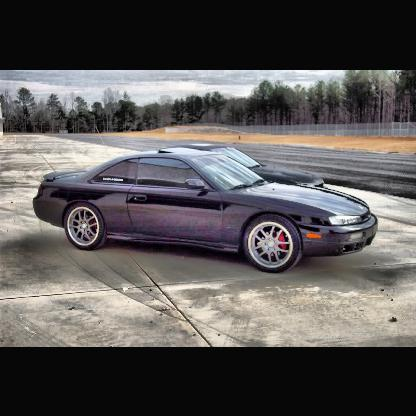Nissan 240SX Coupe 1998: (33, 145, 380, 275)
